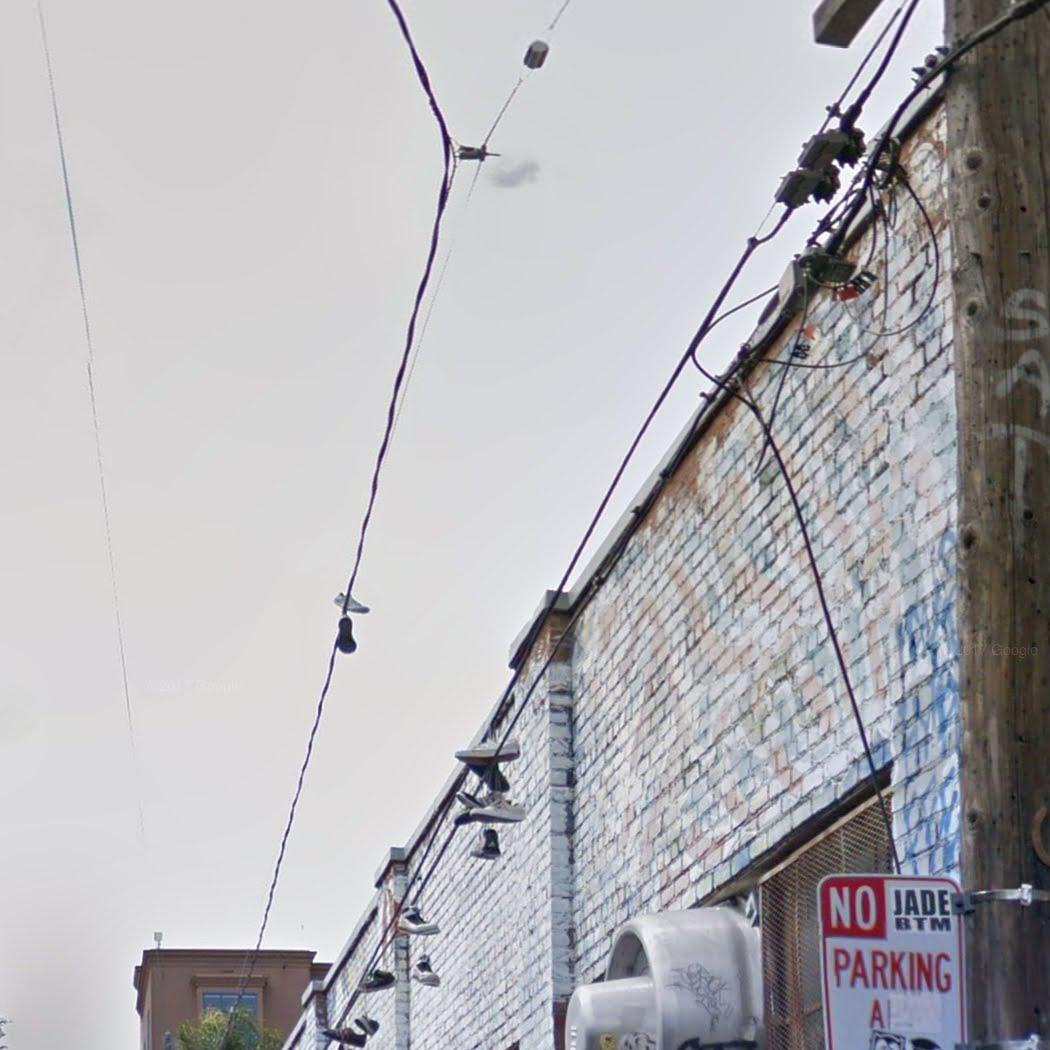No Parking Anytime: (818, 873, 969, 1050)
